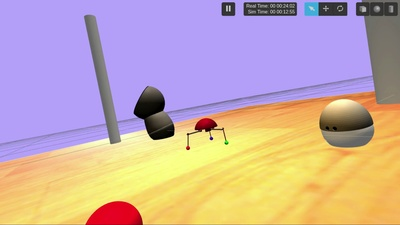mira_robot: (320, 99, 374, 147)
